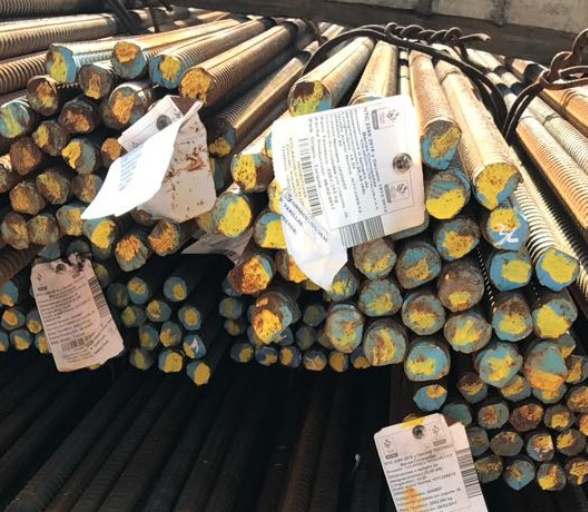dipstick: (473, 157, 525, 211), (438, 262, 487, 312), (538, 246, 585, 297), (419, 117, 462, 171), (524, 341, 570, 391), (534, 294, 580, 343), (427, 172, 472, 222), (396, 241, 441, 291), (362, 319, 409, 366), (474, 344, 523, 387), (433, 220, 482, 263), (322, 303, 363, 354), (444, 312, 494, 353), (178, 62, 221, 109), (105, 81, 148, 127), (401, 294, 447, 337), (288, 75, 336, 116), (406, 340, 452, 382), (214, 191, 254, 239), (487, 250, 533, 291), (493, 296, 534, 342), (485, 208, 527, 252), (358, 278, 405, 317), (232, 150, 275, 192), (108, 38, 151, 78), (355, 239, 396, 278), (43, 41, 81, 83), (252, 296, 290, 338), (201, 116, 238, 159), (227, 259, 272, 293), (28, 117, 66, 156), (252, 212, 289, 252), (147, 50, 184, 89), (115, 229, 148, 272), (145, 218, 180, 257), (27, 75, 61, 115), (10, 136, 44, 175), (78, 60, 112, 98), (1, 100, 32, 141), (504, 457, 538, 493), (57, 99, 94, 132), (7, 181, 43, 214), (62, 137, 96, 171), (275, 248, 308, 283), (509, 401, 545, 433), (37, 170, 69, 206), (26, 211, 59, 245), (325, 266, 357, 301), (82, 216, 120, 245), (536, 459, 568, 493), (1, 215, 31, 251), (457, 370, 490, 402), (69, 172, 102, 204), (55, 202, 86, 236), (409, 384, 447, 411), (472, 454, 506, 484), (557, 427, 588, 458), (491, 431, 523, 460), (478, 402, 511, 430), (99, 135, 128, 166), (527, 432, 555, 463), (546, 403, 577, 429), (565, 455, 588, 490), (503, 376, 532, 402), (158, 349, 187, 374), (127, 274, 150, 305), (218, 314, 250, 336), (176, 305, 203, 331), (185, 361, 212, 387), (255, 344, 282, 369), (162, 275, 187, 302), (299, 302, 326, 326), (183, 333, 207, 359), (159, 321, 183, 347), (218, 294, 245, 317), (22, 308, 45, 335), (121, 304, 149, 326), (303, 347, 328, 371), (348, 344, 371, 370), (227, 341, 254, 363), (569, 384, 588, 415), (568, 354, 588, 383), (106, 282, 129, 306), (328, 350, 349, 376), (1, 281, 22, 307), (1, 308, 25, 330), (145, 300, 170, 321), (32, 331, 53, 356), (296, 325, 318, 348), (129, 346, 152, 368), (9, 327, 31, 350), (138, 323, 158, 348), (281, 344, 302, 367)
